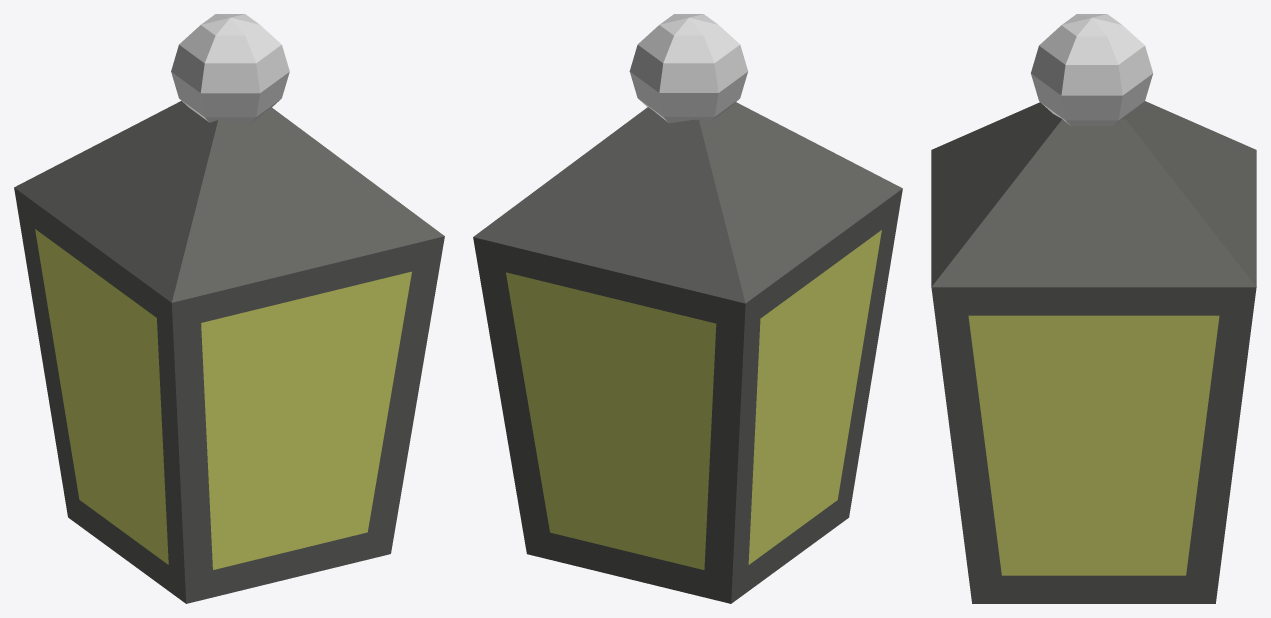
Rendered from walllamp1.fbx.
The picture shows the model from 3 angles, left to right: view 1: azimuth 30°, elevation 25°; view 2: azimuth 150°, elevation 25°; view 3: azimuth 270°, elevation 25°; orthographic projection. The views are drawn at different scales.
Parts seen in each view (by area): view 1: Cube, Sphere; view 2: Cube, Sphere; view 3: Cube, Sphere.
Boxes of the visible parts, box(x1,y1,x2,y2) form: Cube: box(14, 101, 444, 603); Sphere: box(171, 14, 289, 124); Cube: box(473, 102, 902, 603); Sphere: box(629, 14, 748, 123); Cube: box(931, 101, 1256, 603); Sphere: box(1031, 14, 1153, 125).
Bounding box in the file's own units: 267 × 484 × 267.
